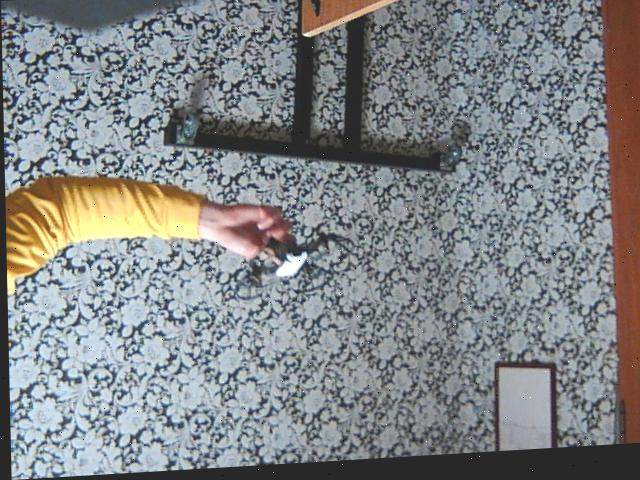drone: (215, 215, 365, 314)
